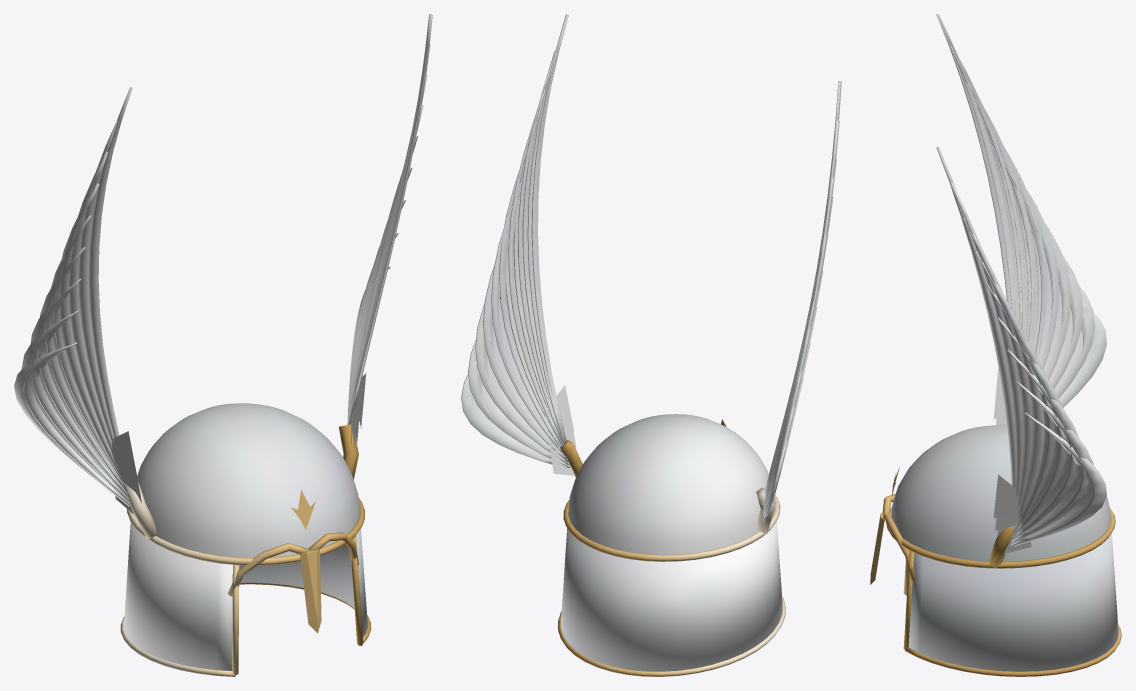
File: winged-paladin-helmet.fbx
3 views of the same model, side by side, from view 1: azimuth 30°, elevation 25°; view 2: azimuth 150°, elevation 25°; view 3: azimuth 270°, elevation 25° (orthographic). The views are drawn at different scales.
Visible parts, largest first — view 1: 01 Silver domed crown, 03 Flared cheek and neck plates, 10 Left feather 01, 10 Left feather 04, 10 Left feather 02, 10 Left feather 03, 10 Left feather 09, 10 Right feather 01, 10 Left feather 08, 02 Gold brow circlet, 10 Left feather 07, 10 Left feather 06 (+10 smaller); view 2: 03 Flared cheek and neck plates, 01 Silver domed crown, 10 Right feather 01, 10 Right feather 02, 10 Right feather 05, 10 Right feather 03, 10 Right feather 06, 10 Right feather 04, 10 Right feather 07, 02 Gold brow circlet, 10 Right feather 08, 10 Right feather 09 (+4 smaller); view 3: 03 Flared cheek and neck plates, 01 Silver domed crown, 10 Left feather 01, 10 Left feather 05, 10 Left feather 02, 10 Left feather 03, 10 Right feather 04, 10 Right feather 01, 10 Right feather 09, 10 Right feather 02, 10 Left feather 06, 10 Right feather 03 (+18 smaller).
Part boxes in pixels (bbox=[...]): 01 Silver domed crown: bbox=[137, 403, 359, 558]; 03 Flared cheek and neck plates: bbox=[124, 522, 367, 670]; 10 Left feather 01: bbox=[88, 87, 132, 439]; 10 Left feather 04: bbox=[59, 183, 124, 484]; 10 Left feather 02: bbox=[79, 119, 117, 446]; 10 Left feather 03: bbox=[69, 151, 118, 466]; 10 Left feather 09: bbox=[14, 342, 130, 506]; 10 Right feather 01: bbox=[347, 14, 432, 424]; 10 Left feather 08: bbox=[21, 310, 129, 503]; 02 Gold brow circlet: bbox=[127, 497, 364, 565]; 10 Left feather 07: bbox=[30, 278, 127, 497]; 10 Left feather 06: bbox=[40, 247, 124, 489]; 03 Flared cheek and neck plates: bbox=[561, 522, 782, 671]; 01 Silver domed crown: bbox=[568, 414, 775, 554]; 10 Right feather 01: bbox=[527, 14, 568, 445]; 10 Right feather 02: bbox=[518, 51, 564, 445]; 10 Right feather 05: bbox=[491, 170, 565, 456]; 10 Right feather 03: bbox=[508, 88, 564, 446]; 10 Right feather 06: bbox=[483, 217, 567, 459]; 10 Right feather 04: bbox=[499, 142, 564, 453]; 10 Right feather 07: bbox=[475, 266, 568, 462]; 02 Gold brow circlet: bbox=[563, 495, 780, 561]; 10 Right feather 08: bbox=[468, 312, 569, 465]; 10 Right feather 09: bbox=[461, 350, 569, 468]; 03 Flared cheek and neck plates: bbox=[908, 533, 1118, 671]; 01 Silver domed crown: bbox=[891, 425, 1110, 561]; 10 Left feather 01: bbox=[936, 14, 1018, 321]; 10 Left feather 05: bbox=[992, 146, 1058, 370]; 10 Left feather 02: bbox=[950, 46, 1025, 336]; 10 Left feather 03: bbox=[968, 81, 1035, 347]; 10 Right feather 04: bbox=[975, 251, 1044, 528]; 10 Right feather 01: bbox=[936, 147, 1015, 488]; 10 Right feather 09: bbox=[1010, 412, 1106, 545]; 10 Right feather 02: bbox=[950, 182, 1022, 496]; 10 Left feather 06: bbox=[1012, 187, 1070, 380]; 10 Right feather 03: bbox=[963, 217, 1031, 513].
Bounding box in the file's own units: 63.08 × 106 × 43.33.
Materials: 3 (3 with a texture image).
